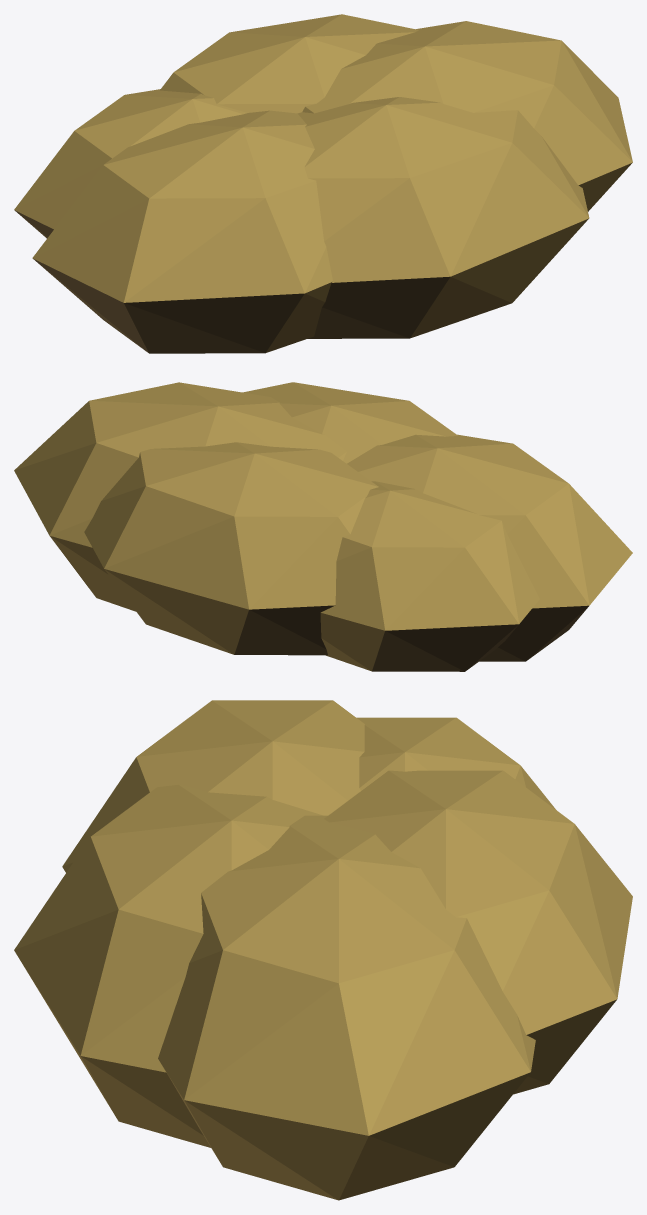
The model's file is TW_SHRUB_SPREAD_A_LOD0.glb.
The picture shows the model from 3 angles, top to bottom: view 1: azimuth 30°, elevation 25°; view 2: azimuth 150°, elevation 25°; view 3: azimuth 270°, elevation 25°; orthographic projection. The views are drawn at different scales.
Visible parts, largest first — view 1: TW_SHRUB_SPREAD_A_LOD0; view 2: TW_SHRUB_SPREAD_A_LOD0; view 3: TW_SHRUB_SPREAD_A_LOD0.
Boxes of the visible parts, x1,y1,x2,y2 form: TW_SHRUB_SPREAD_A_LOD0: (14,14,632,353); TW_SHRUB_SPREAD_A_LOD0: (14,382,632,671); TW_SHRUB_SPREAD_A_LOD0: (14,700,632,1200).
Size of the model in its own units: 1.4 by 0.5 by 0.95.
1 material, 1 textured.
